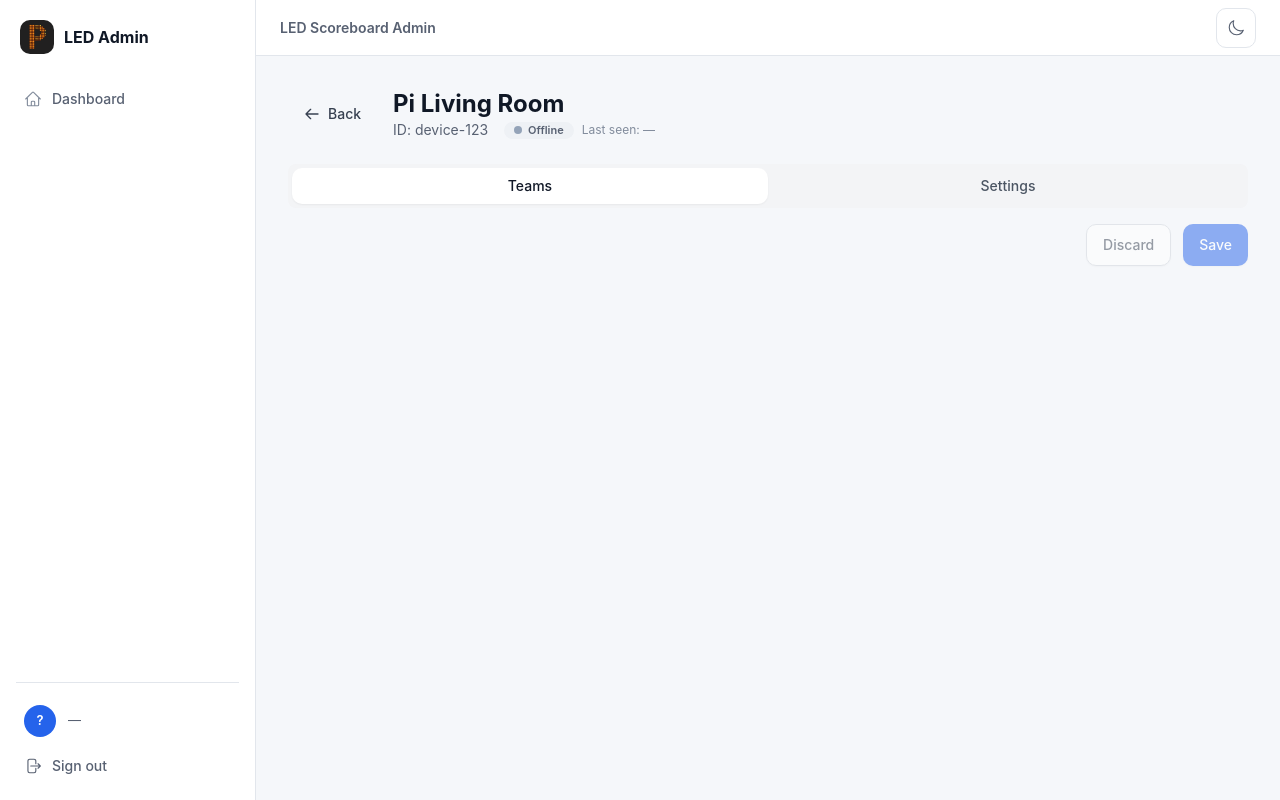
it: DevicePage – device rename integration › a11y live-region – before and after interaction › clears the rename live-region message when the user edits the input after a save
The width and height of the screenshot is (1280, 800).
Click the tab "Settings": (1008,186) [772, 168, 1244, 204]
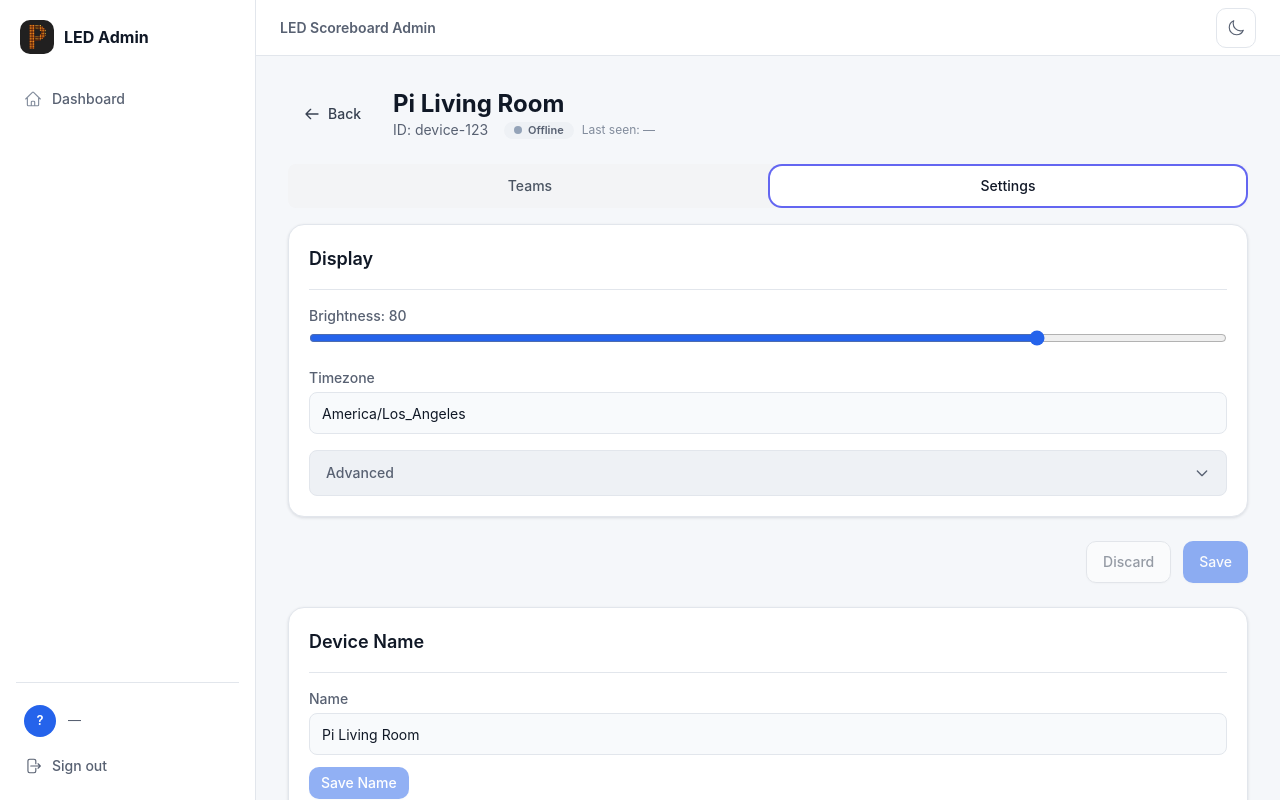
Replace the text in the field with placeholder "My Scoreboard" with "First Rename": (768,734) [309, 713, 1227, 755]
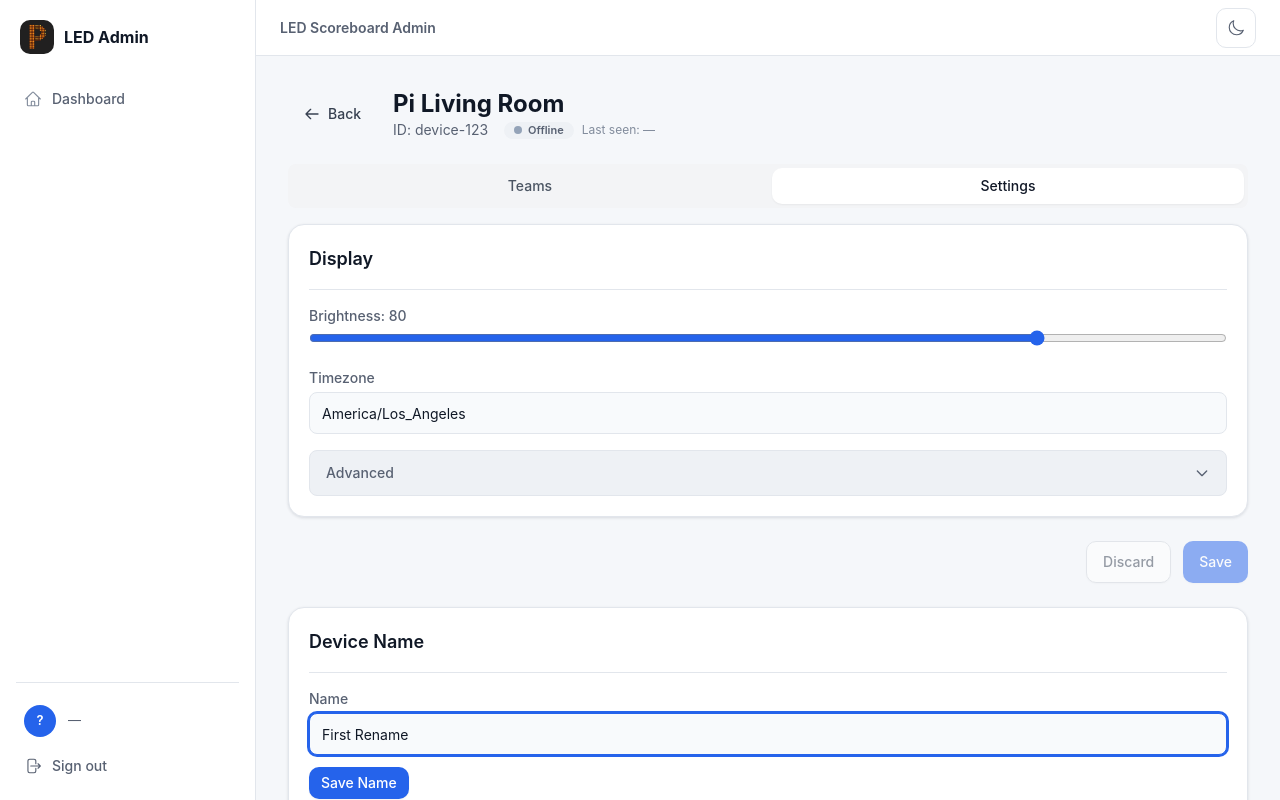
Click the button "Save Name": (359,783) [309, 767, 409, 799]
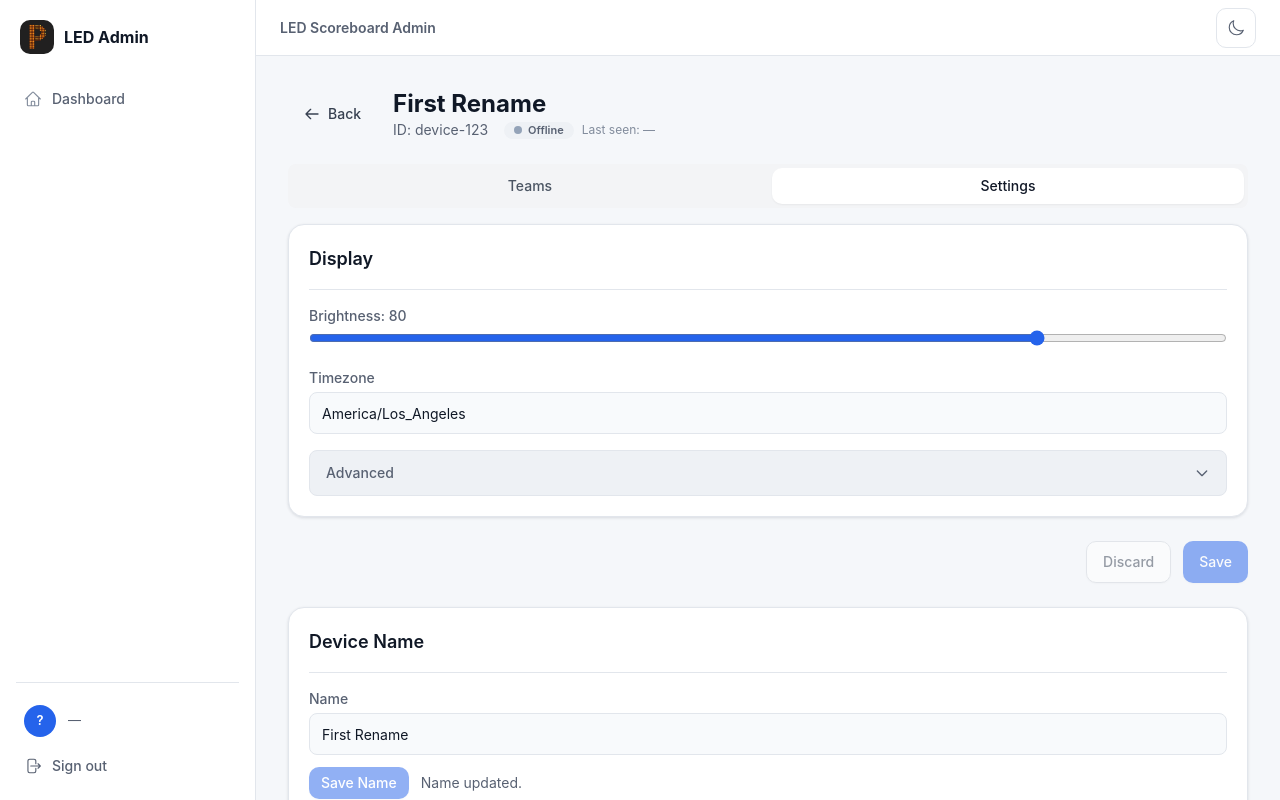
Now the message reads "Name updated.", box [421, 774, 522, 791]
In the field with placeholder "My Scoreboard": (768,734) [309, 713, 1227, 755], type " Extra"
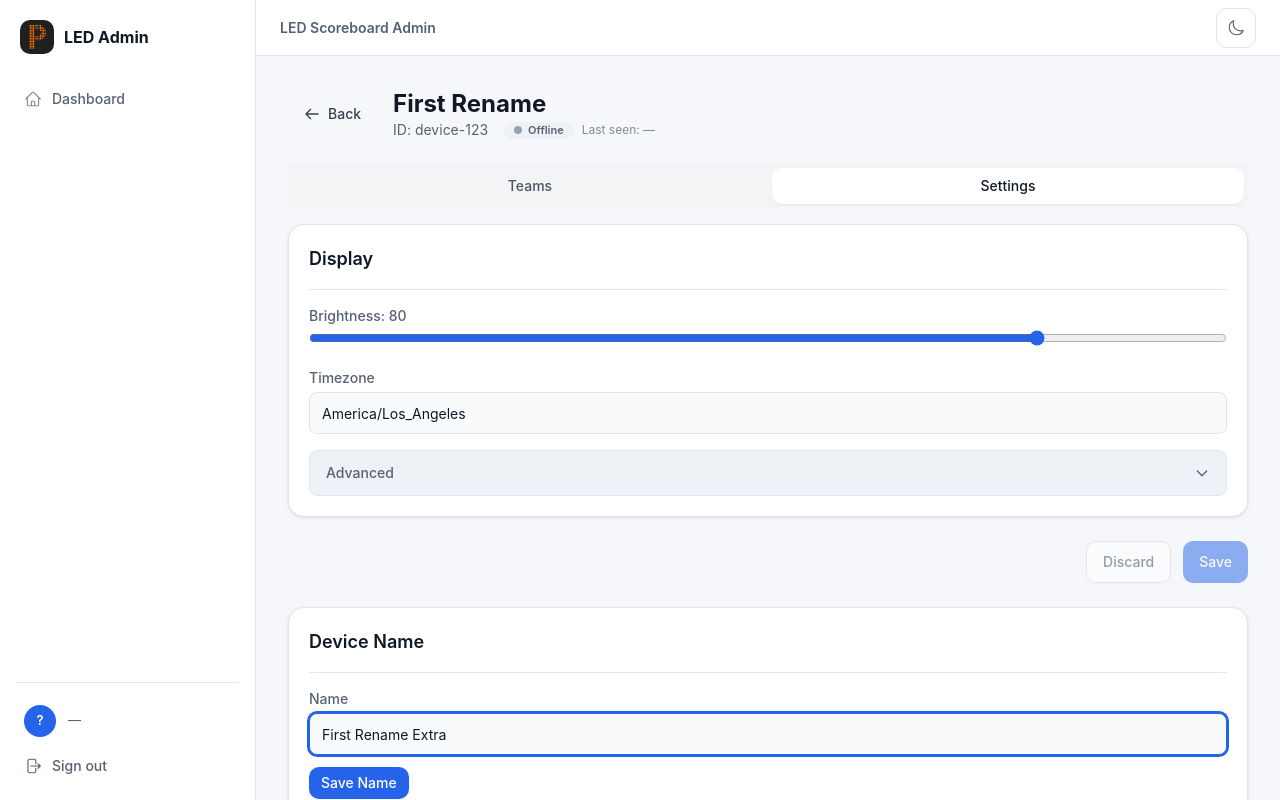
Now the message "Name updated." is gone
